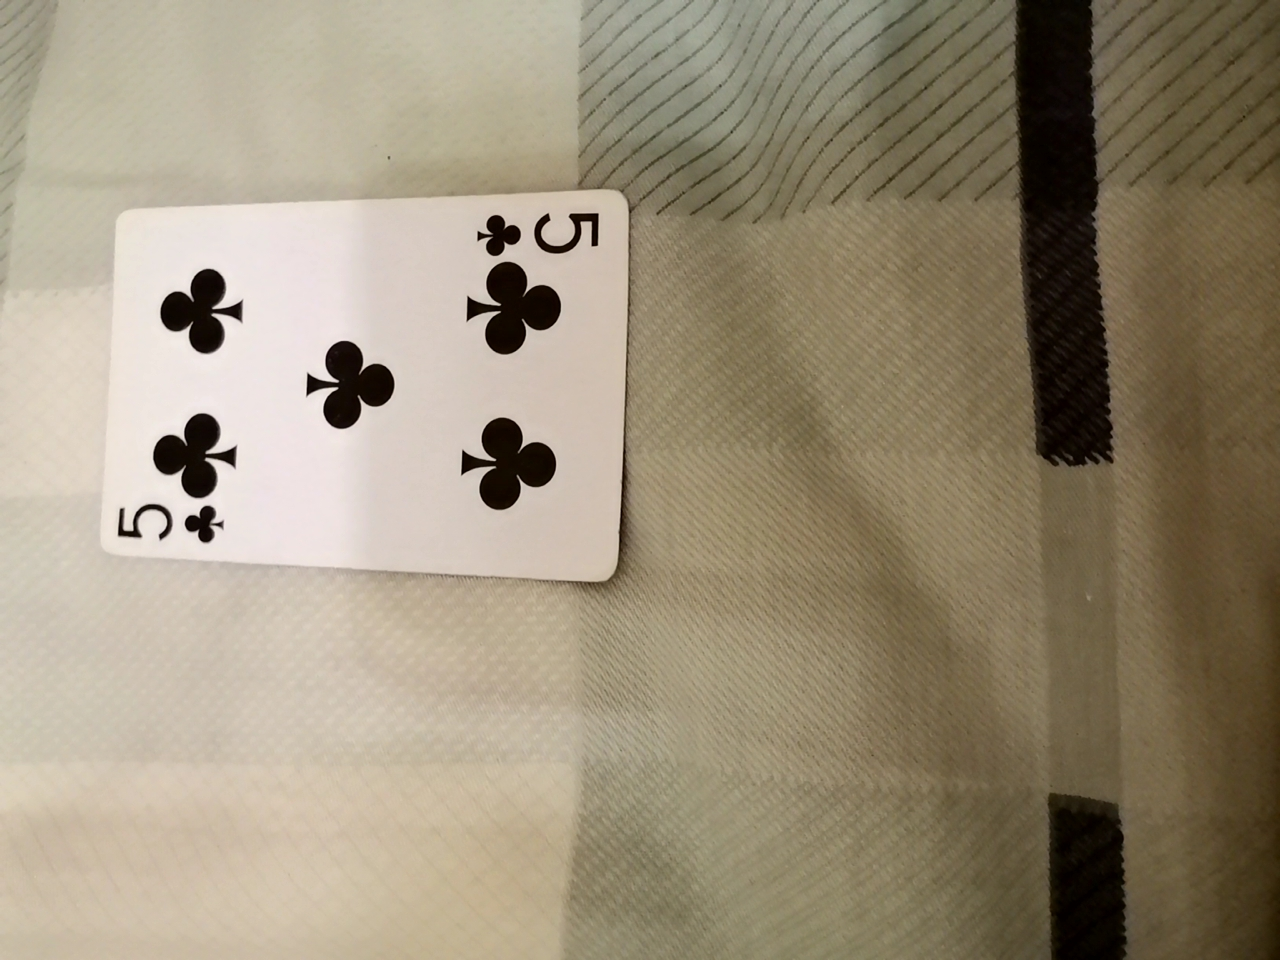mh 5: (96, 186, 615, 588)
